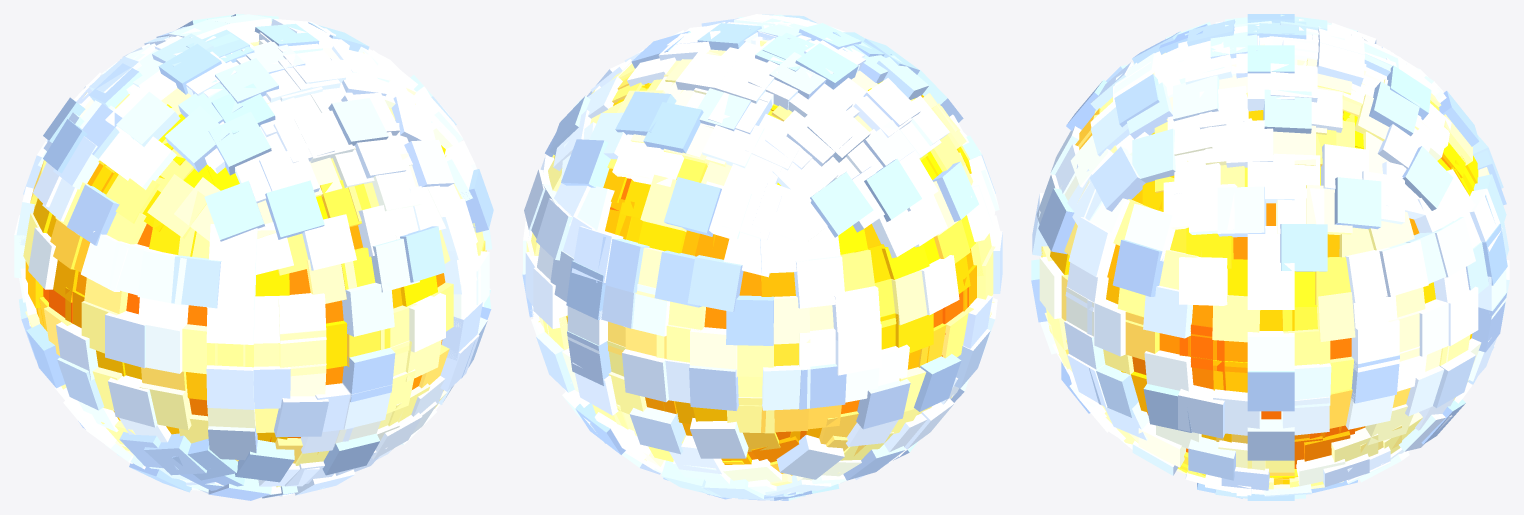
Rendered from 轉轉轉.glb.
The picture shows the model from 3 angles, left to right: view 1: azimuth 30°, elevation 25°; view 2: azimuth 150°, elevation 25°; view 3: azimuth 270°, elevation 25°; orthographic projection.
Visible parts, largest first — view 1: Object_252, Object_153, Object_345, Object_344, Object_205, Object_304, Object_116, Object_155, Object_93, Object_28, Object_65, Object_221 (+129 smaller); view 2: Object_234, Object_99, Object_314, Object_103, Object_171, Object_159, Object_402, Object_226, Object_51, Object_69, Object_380, Object_241 (+131 smaller); view 3: Object_699, Object_651, Object_669, Object_691, Object_712, Object_655, Object_661, Object_698, Object_567, Object_605, Object_697, Object_719 (+123 smaller).
Part boxes in pixels (<box>): Object_252: <box>265,180,324,239</box>; Object_153: <box>204,180,264,241</box>; Object_345: <box>342,282,394,336</box>; Object_344: <box>342,348,395,402</box>; Object_205: <box>208,111,271,175</box>; Object_304: <box>302,214,356,270</box>; Object_116: <box>206,365,254,409</box>; Object_155: <box>165,106,229,172</box>; Object_93: <box>171,255,221,308</box>; Object_28: <box>105,311,146,368</box>; Object_65: <box>137,250,186,304</box>; Object_221: <box>278,293,326,343</box>; Object_234: <box>687,255,743,311</box>; Object_99: <box>794,256,845,308</box>; Object_314: <box>664,177,721,236</box>; Object_103: <box>810,172,873,237</box>; Object_171: <box>726,295,774,345</box>; Object_159: <box>752,181,811,241</box>; Object_402: <box>643,102,703,153</box>; Object_226: <box>689,365,738,410</box>; Object_51: <box>835,323,881,375</box>; Object_69: <box>864,158,921,221</box>; Object_380: <box>622,349,668,402</box>; Object_241: <box>690,418,748,458</box>; Object_699: <box>1179,257,1227,305</box>; Object_651: <box>1334,177,1381,229</box>; Object_669: <box>1217,186,1266,237</box>; Object_691: <box>1280,224,1327,271</box>; Object_712: <box>1247,262,1294,309</box>; Object_655: <box>1112,239,1163,296</box>; Object_661: <box>1379,239,1428,296</box>; Object_698: <box>1178,385,1224,438</box>; Object_567: <box>1089,146,1145,211</box>; Object_605: <box>1226,120,1273,167</box>; Object_697: <box>1351,320,1399,372</box>; Object_719: <box>1247,371,1294,411</box>.
Size of the model in its own units: 26.85 by 27.14 by 26.86.
